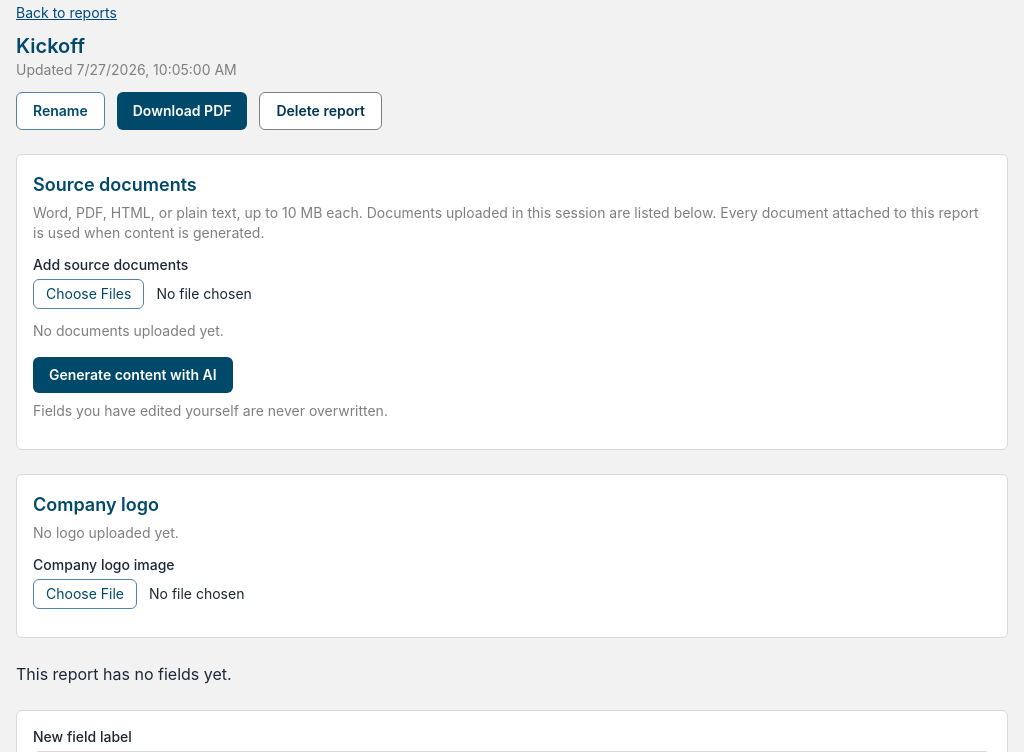
Test case: ReportDetailPage › shows the renamed report without a refetch
Expected: the heading "Kickoff" is shown, [16, 34, 85, 58]
Click the button "Rename": x=60, y=111 [16, 92, 105, 130]
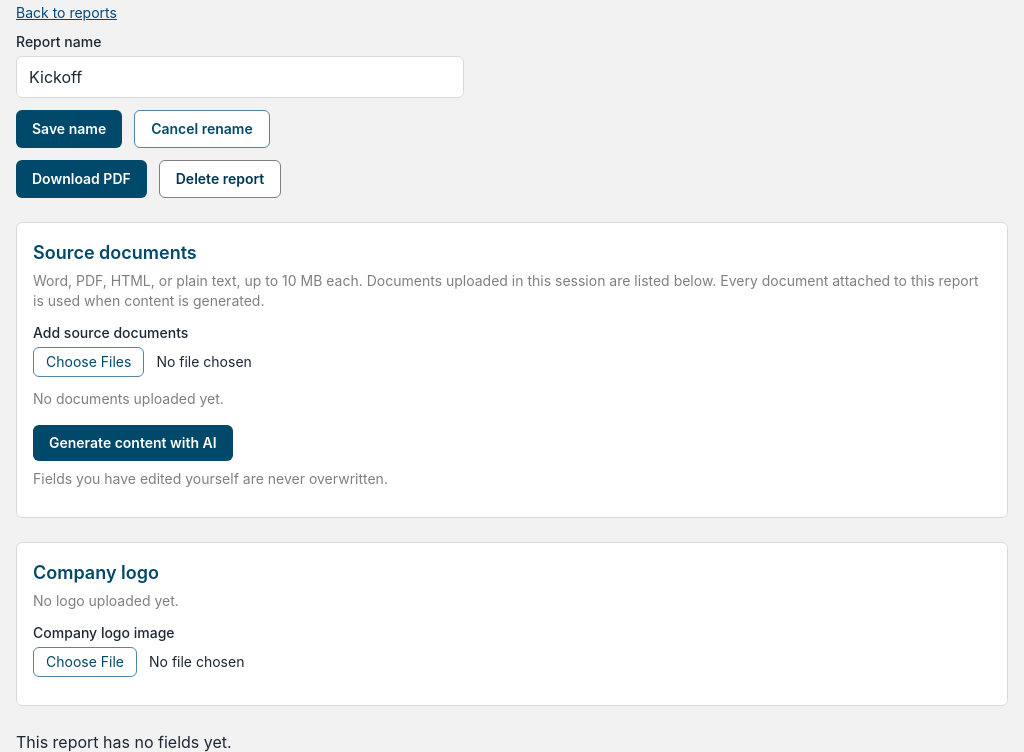
Replace the text in the field labelled "Report name" with "Kickoff v2": x=240, y=77 [16, 56, 464, 98]
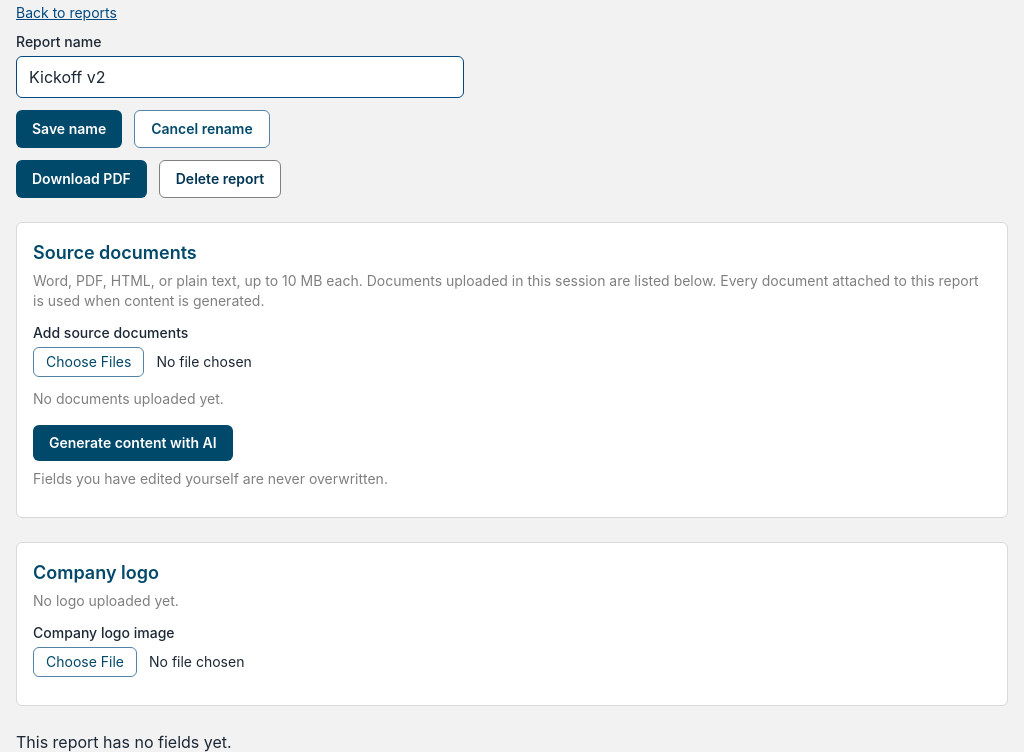
Click the button "Save name": x=69, y=129 [16, 110, 122, 148]
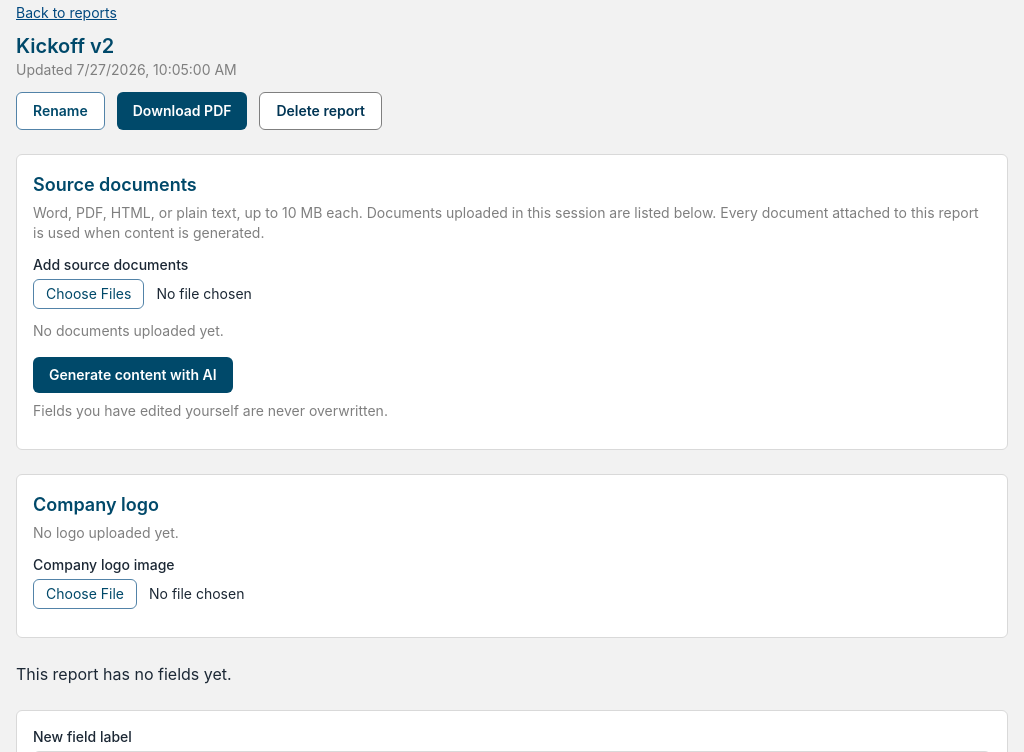
Now the heading "Kickoff v2" is shown, box [16, 34, 114, 58]
